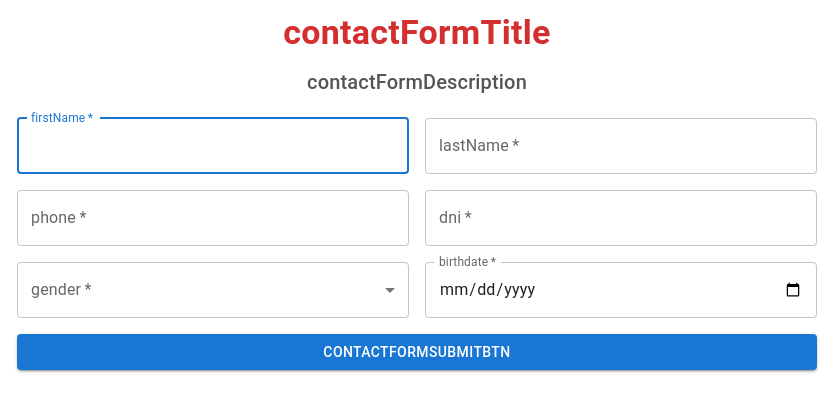
Test: ContactForm › displays error message on invalid phone number
In the field with test id "phone": (213, 218) x1=17 y1=190 x2=409 y2=246, type "123"
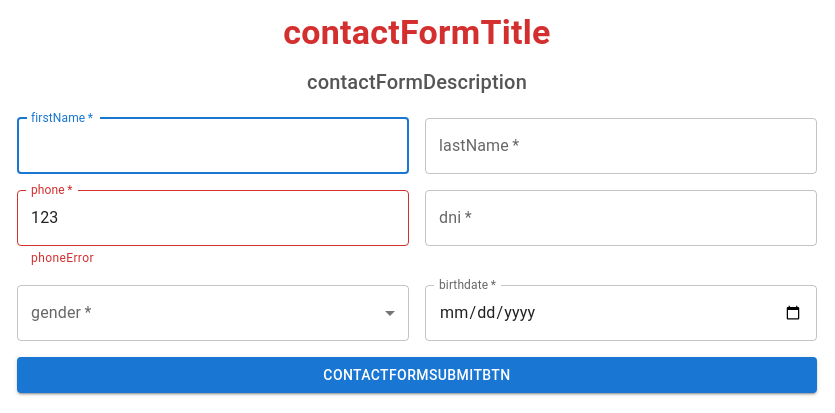
Expected: the text "phoneError" is shown, x1=31 y1=251 x2=94 y2=265
